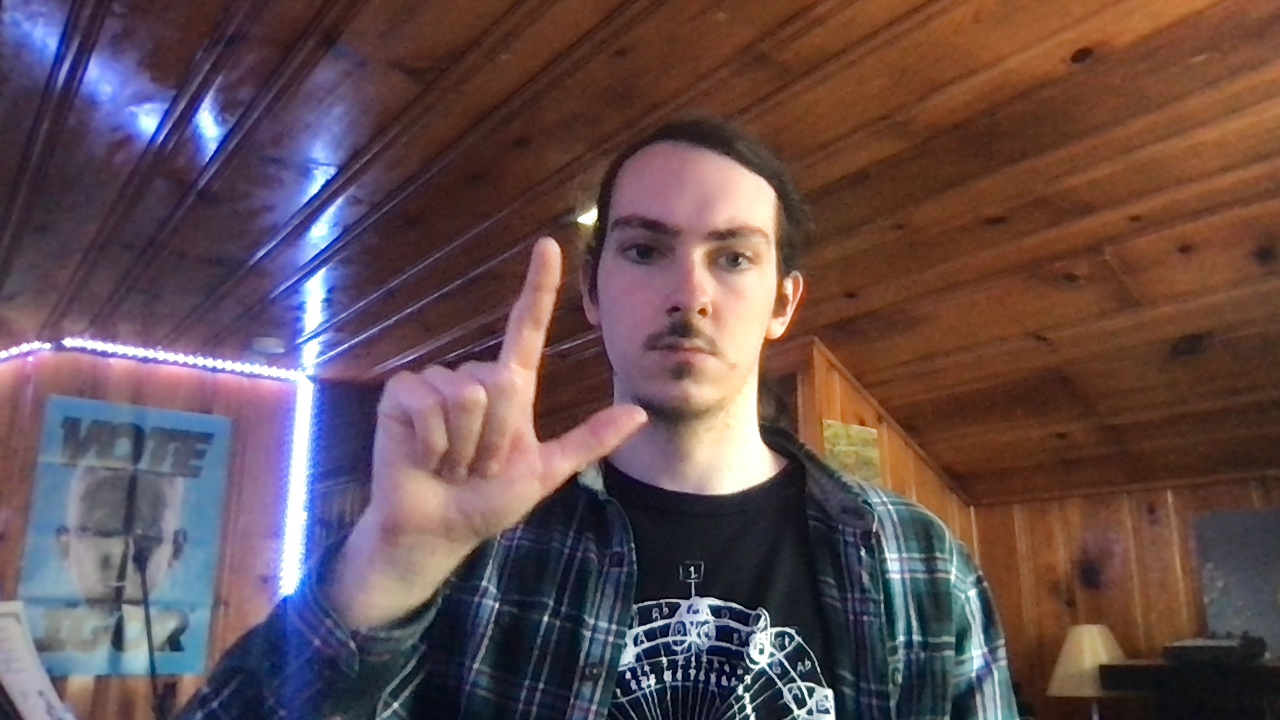l: (365, 232, 651, 541)
